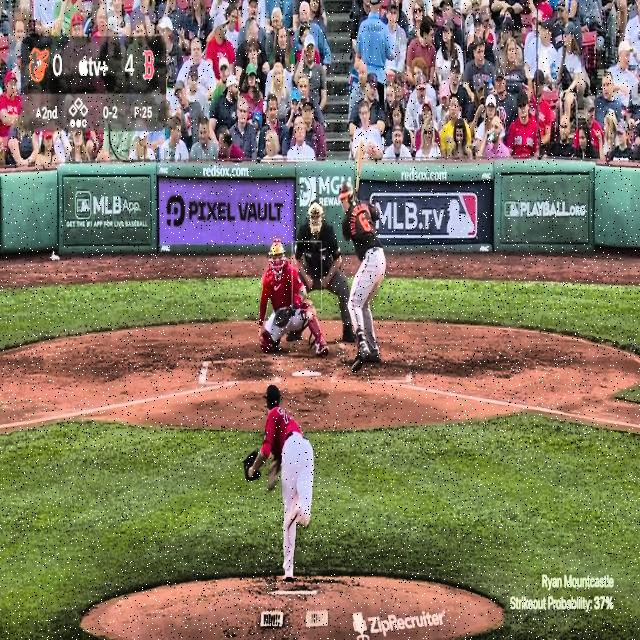baseball: (306, 310, 313, 321)
